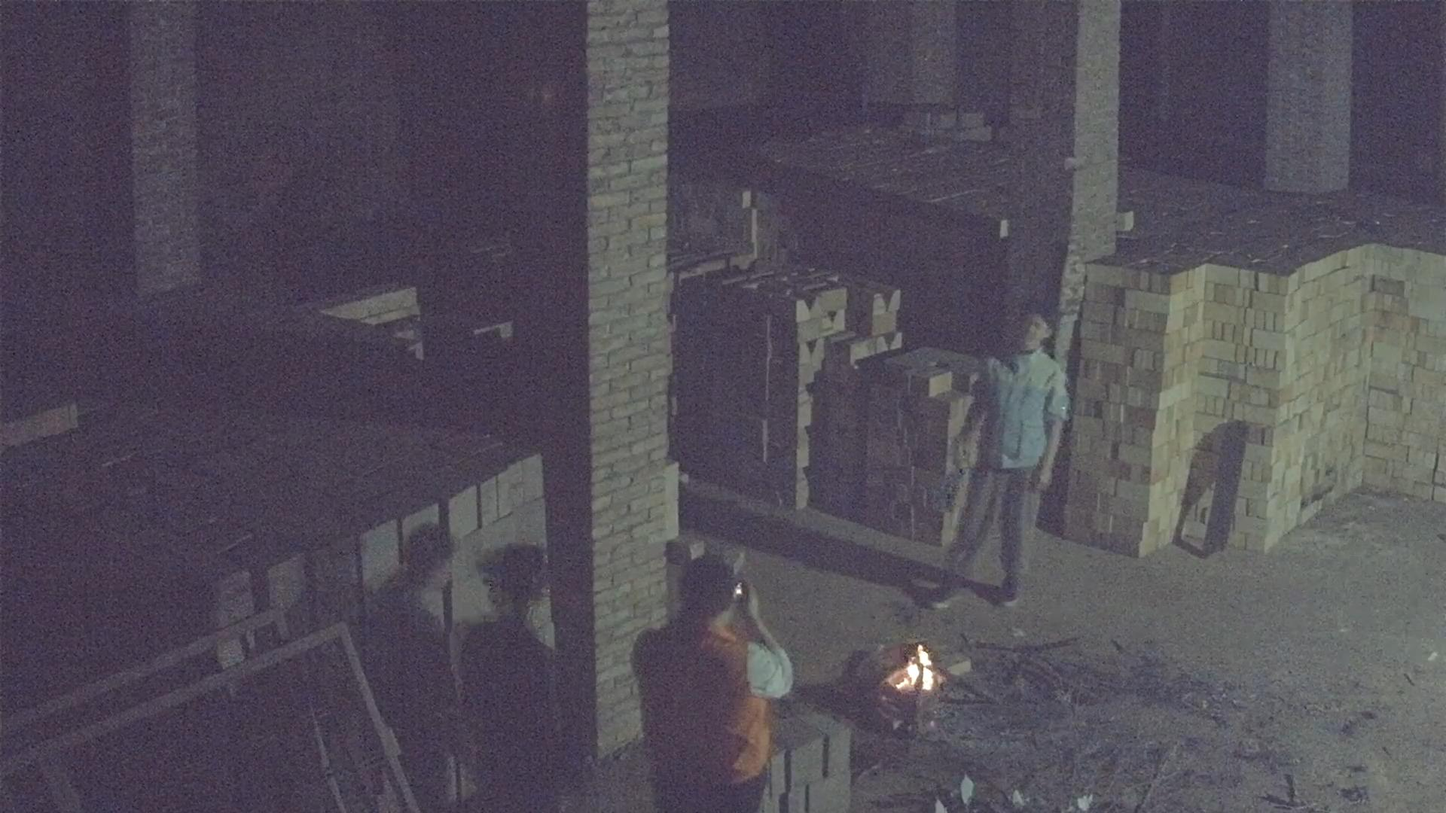fire: (883, 644, 941, 694)
